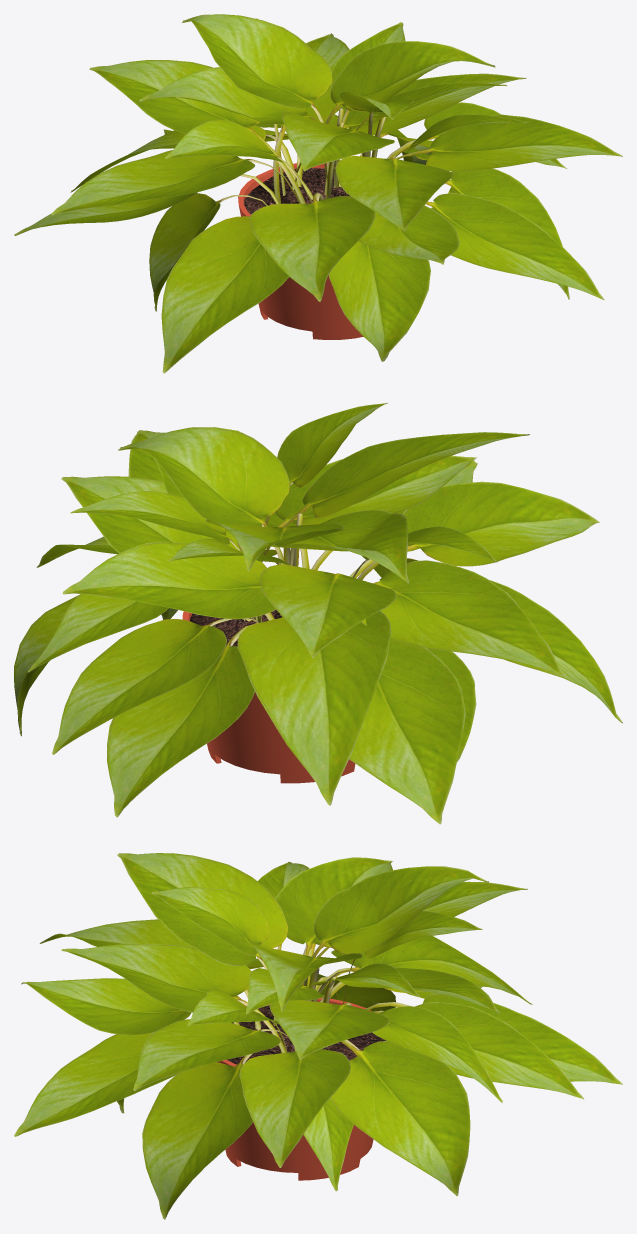
File: Plant_3.fbx
3 views of the same model, one above another, from view 1: azimuth 30°, elevation 25°; view 2: azimuth 150°, elevation 25°; view 3: azimuth 270°, elevation 25° (orthographic). The views are drawn at different scales.
Parts seen in each view (by area): view 1: Plane.048, Plane.078, Plane.045, Plane.047, Plane.076, Plane.062, Plane.049, Plane.059, Plane.061, Plane.072, Cylinder.004, Plane.060 (+16 smaller); view 2: Plane.051, Plane.050, Plane.049, Plane.052, Plane.053, Plane.072, Plane.047, Plane.058, Plane.059, Plane.063, Cylinder.004, Plane.057 (+15 smaller); view 3: Plane.054, Plane.056, Plane.078, Plane.063, Plane.055, Plane.061, Plane.045, Plane.053, Plane.046, Plane.062, Plane.060, Plane.071 (+17 smaller).
Part boxes in pixels (box(x1,y1,x2,y2)): Plane.048: box(161, 203, 304, 373); Plane.078: box(181, 14, 332, 195); Plane.045: box(426, 193, 604, 299); Plane.047: box(249, 193, 375, 301); Plane.076: box(328, 241, 430, 361); Plane.062: box(397, 114, 622, 171); Plane.049: box(51, 150, 300, 215); Plane.059: box(89, 60, 305, 203); Plane.061: box(335, 156, 454, 231); Plane.072: box(324, 41, 495, 197); Cylinder.004: box(238, 163, 363, 339); Plane.060: box(139, 67, 316, 124); Plane.051: box(237, 611, 391, 805); Plane.050: box(349, 638, 465, 824); Plane.049: box(361, 560, 565, 676); Plane.052: box(107, 623, 258, 817); Plane.053: box(52, 618, 258, 754); Plane.072: box(118, 427, 289, 564); Plane.047: box(357, 481, 599, 579); Plane.058: box(62, 542, 275, 619); Plane.059: box(260, 564, 396, 658); Plane.063: box(261, 432, 529, 562); Cylinder.004: box(182, 611, 355, 783); Plane.057: box(61, 476, 274, 620); Plane.054: box(322, 1040, 470, 1196); Plane.056: box(142, 1044, 288, 1219); Plane.078: box(304, 866, 489, 1000); Plane.063: box(117, 853, 295, 1051); Plane.055: box(239, 1049, 350, 1167); Plane.061: box(61, 944, 286, 1053); Plane.045: box(14, 1032, 178, 1136); Plane.053: box(373, 1002, 583, 1099); Plane.046: box(21, 978, 238, 1035); Plane.062: box(133, 1019, 292, 1091); Plane.060: box(275, 857, 392, 985); Plane.071: box(372, 1006, 502, 1103).
Bounding box in the file's own units: 119 × 58.89 × 127.
